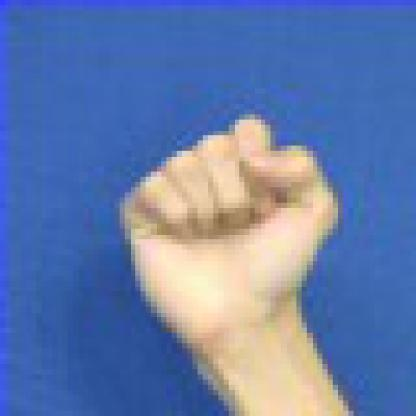zero: (69, 64, 404, 359)
